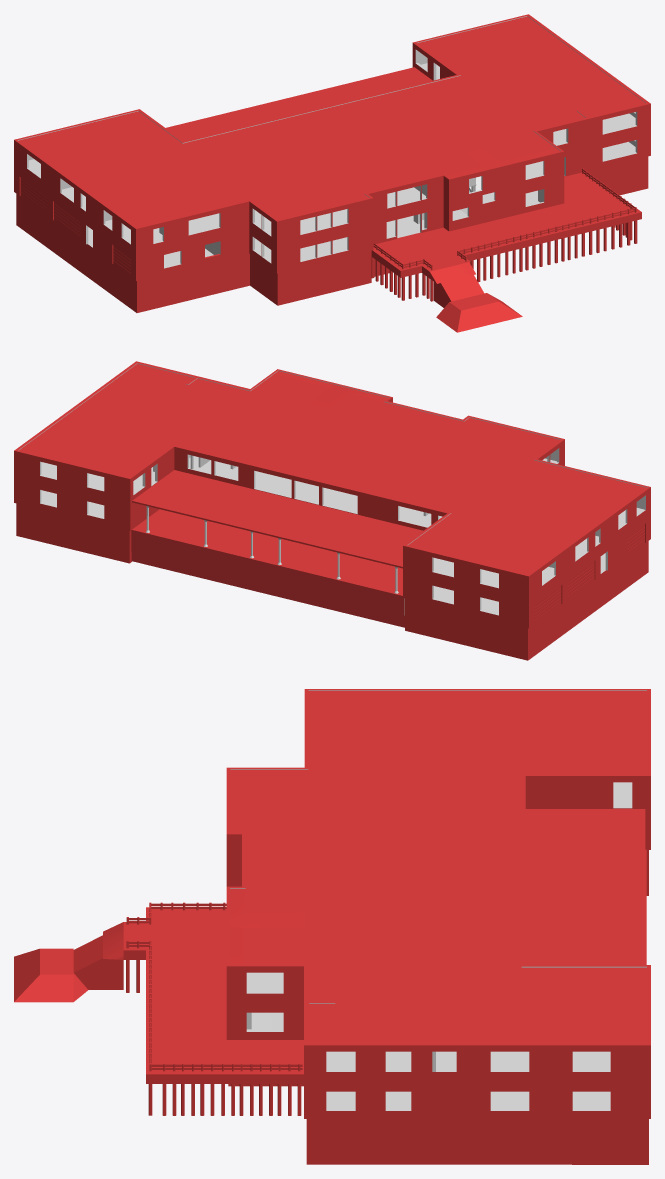
Rendered from HousePlanFirstModel.fbx.
3 views of the same model, one above another, from view 1: azimuth 30°, elevation 25°; view 2: azimuth 150°, elevation 25°; view 3: azimuth 270°, elevation 25° (orthographic). The views are drawn at different scales.
Parts seen in each view (by area): view 1: Cube.015, Cube.001, Cube.051, Cube.003, Cube.097, Cube.007, Cube.004, Cube.014; view 2: Cube.015, Cube.001, Cube.002, Cube.051, Cube.007, Cube.004; view 3: Cube.015, Cube.001, Cube.051, Cube.007, Cube.003, Cube.014, Cube.097, Cube.004.
Part boxes in pixels (x1=…): Cube.015: x1=18, y1=16, x2=645, y2=227; Cube.001: x1=14, y1=14, x2=650, y2=280; Cube.051: x1=16, y1=142, x2=648, y2=312; Cube.003: x1=371, y1=172, x2=641, y2=283; Cube.097: x1=371, y1=168, x2=637, y2=301; Cube.007: x1=166, y1=67, x2=432, y2=141; Cube.004: x1=28, y1=63, x2=635, y2=242; Cube.014: x1=433, y1=275, x2=522, y2=332; Cube.015: x1=19, y1=364, x2=646, y2=574; Cube.001: x1=14, y1=361, x2=650, y2=628; Cube.002: x1=131, y1=509, x2=404, y2=627; Cube.051: x1=16, y1=490, x2=648, y2=660; Cube.007: x1=132, y1=470, x2=423, y2=568; Cube.004: x1=41, y1=456, x2=643, y2=586; Cube.015: x1=230, y1=691, x2=646, y2=1043; Cube.001: x1=226, y1=689, x2=650, y2=1118; Cube.051: x1=228, y1=850, x2=648, y2=1164; Cube.007: x1=525, y1=809, x2=645, y2=964; Cube.003: x1=103, y1=907, x2=303, y2=1083; Cube.014: x1=14, y1=935, x2=123, y2=1002; Cube.097: x1=126, y1=902, x2=302, y2=1115; Cube.004: x1=246, y1=782, x2=632, y2=1069.
Size of the model in its own units: 11824 by 1870 by 8936.
